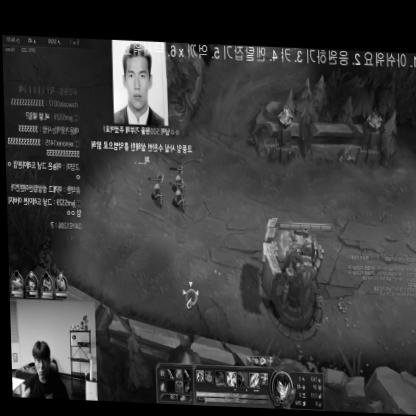donation: (87, 37, 191, 165)
streamer: (16, 340, 66, 397)
